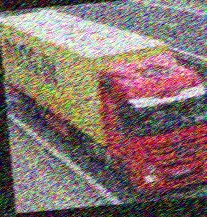truck: (0, 0, 207, 207)
